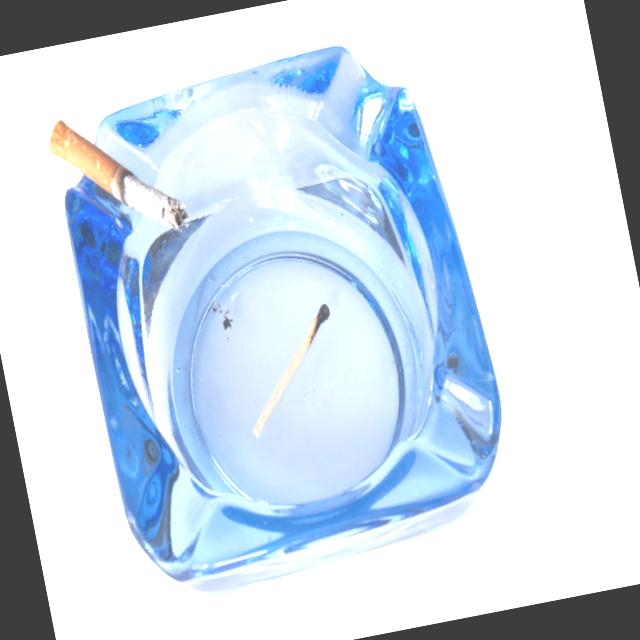cigarette: (44, 98, 190, 252)
